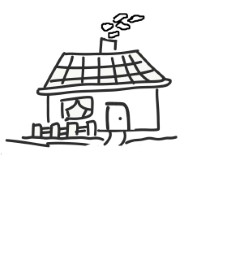door: (101, 99, 133, 136)
open_window: (58, 95, 97, 124)
roof: (35, 49, 171, 96)
small_house: (1, 1, 232, 260)
smoking_chimney: (95, 8, 149, 55)
wall: (44, 82, 163, 136)
